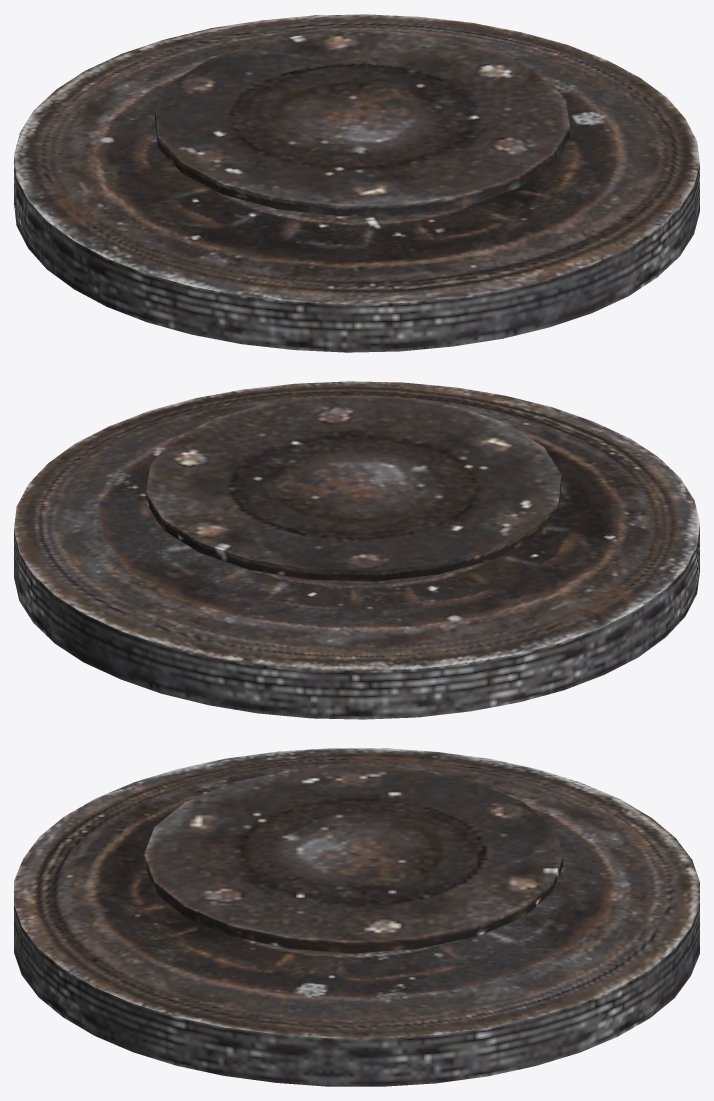
Rendered from giro_wheel.obj.
3 renders of one model, top to bottom at view 1: azimuth 30°, elevation 25°; view 2: azimuth 150°, elevation 25°; view 3: azimuth 270°, elevation 25°, orthographic.
Parts seen in each view (by area): view 1: veh34_regina; view 2: veh34_regina; view 3: veh34_regina.
Boxes of the visible parts, box(x1,y1,x2,y2) form: veh34_regina: box(14, 14, 699, 352); veh34_regina: box(14, 381, 699, 719); veh34_regina: box(14, 748, 699, 1086).
Bounding box in the file's own units: 0.1974 × 0.038 × 0.1974.
Materials: 1 (1 with a texture image).
